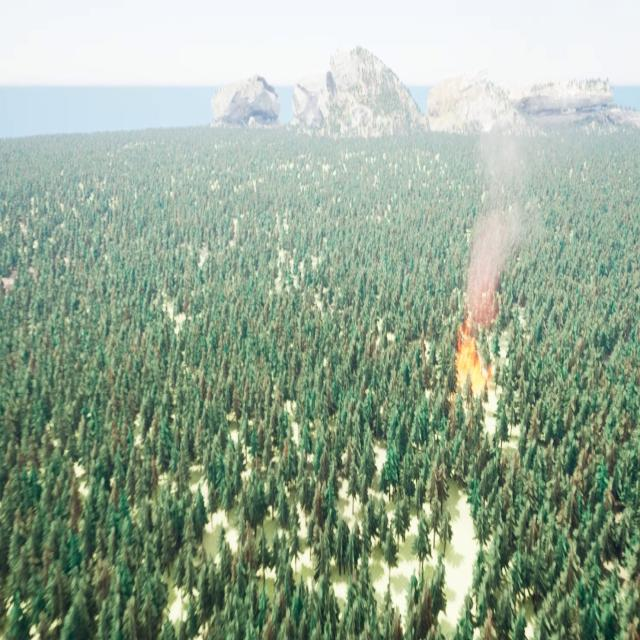fire: (455, 321, 492, 398)
smoke: (466, 125, 532, 319)
